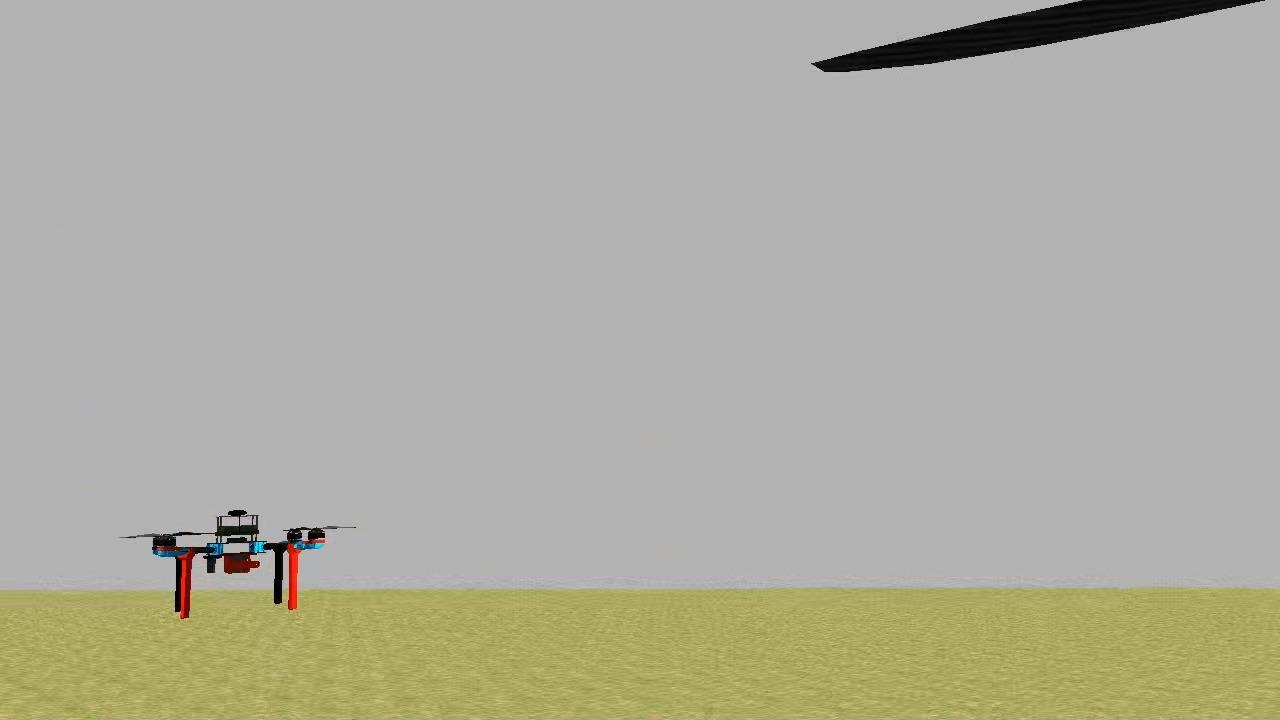UAV: (146, 508, 332, 622)
